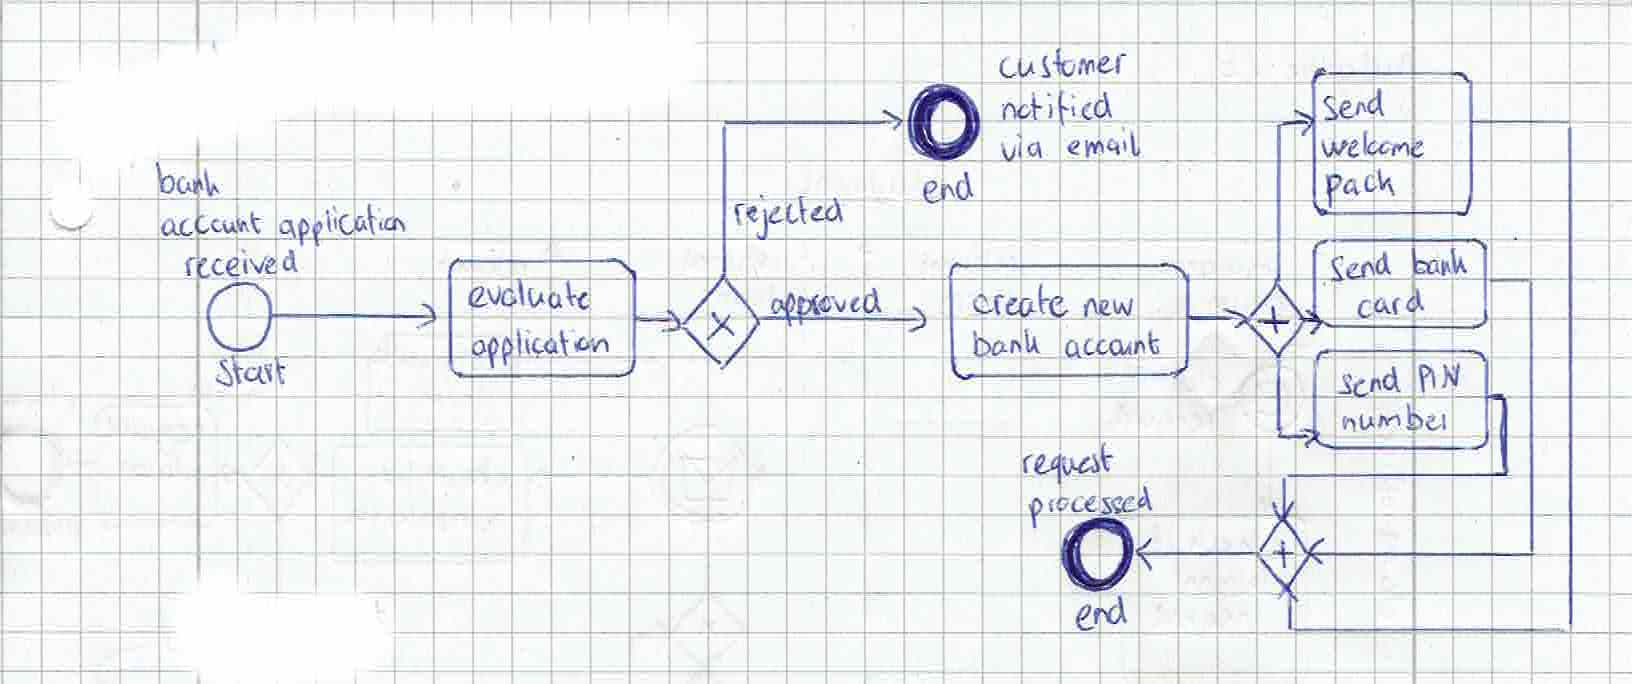PIN: (1411, 356, 1467, 397)
Send: (1326, 246, 1403, 287)
Start: (211, 352, 285, 390)
account: (151, 207, 277, 242), (1065, 330, 1162, 359)
application: (466, 324, 613, 371), (274, 203, 415, 250)
approved: (765, 279, 885, 324)
bank: (962, 326, 1056, 359), (149, 162, 225, 202), (1409, 244, 1472, 282)
card: (1350, 290, 1433, 324)
create: (968, 284, 1073, 316)
customer: (996, 47, 1129, 87)
email: (1064, 126, 1146, 161)
end: (914, 164, 981, 213), (1071, 593, 1132, 634)
evaluate: (464, 275, 593, 316)
new: (1083, 288, 1136, 320)
notified: (999, 85, 1125, 135)
number: (1328, 406, 1458, 435)
pack: (1318, 162, 1398, 209)
processed: (1024, 480, 1162, 525)
received: (180, 245, 308, 282)
rejected: (728, 186, 847, 240)
request: (1013, 437, 1129, 488)
send: (1333, 360, 1407, 401), (1321, 88, 1388, 124)
via: (985, 128, 1059, 164)
welcome: (1314, 131, 1427, 161)
